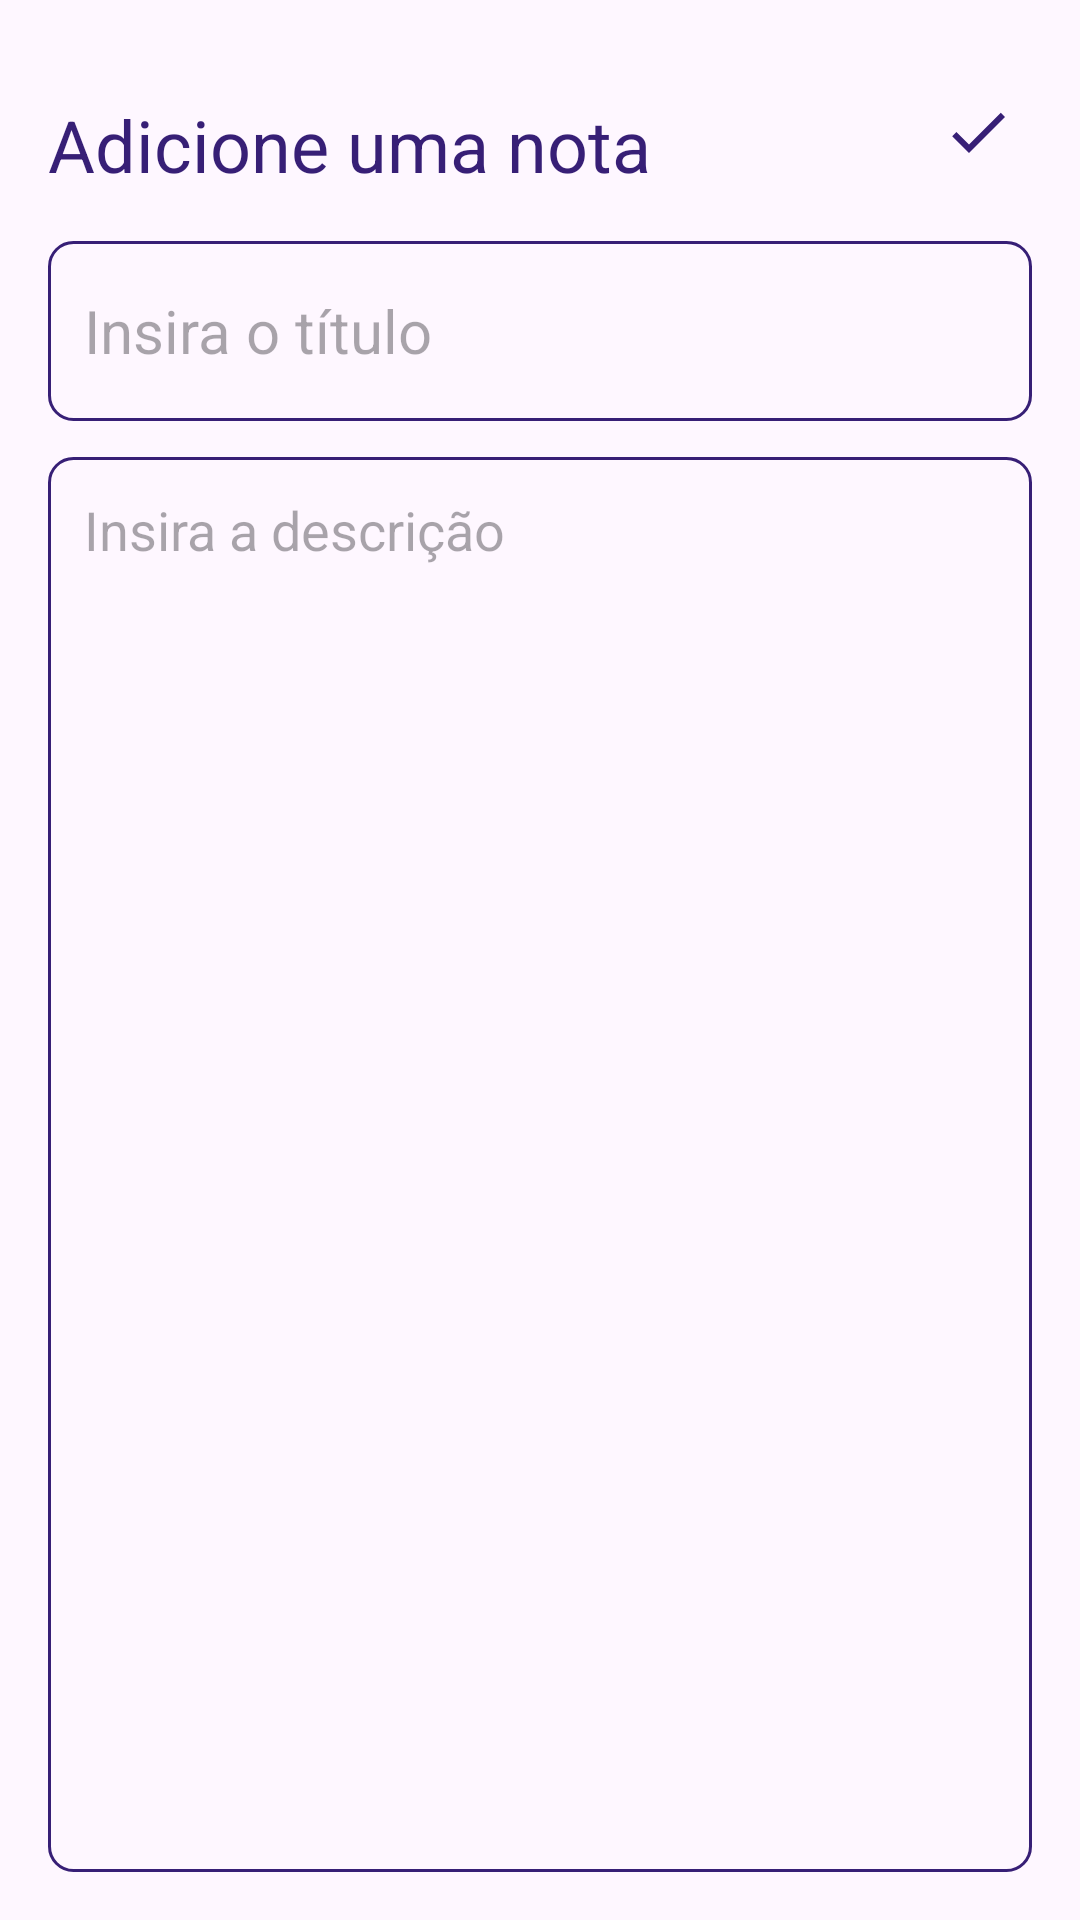

Icons on this 1080 x 1920 Android screen, each with its box as (x1, y1, x2, y2):
done: (952, 113, 1005, 153)
